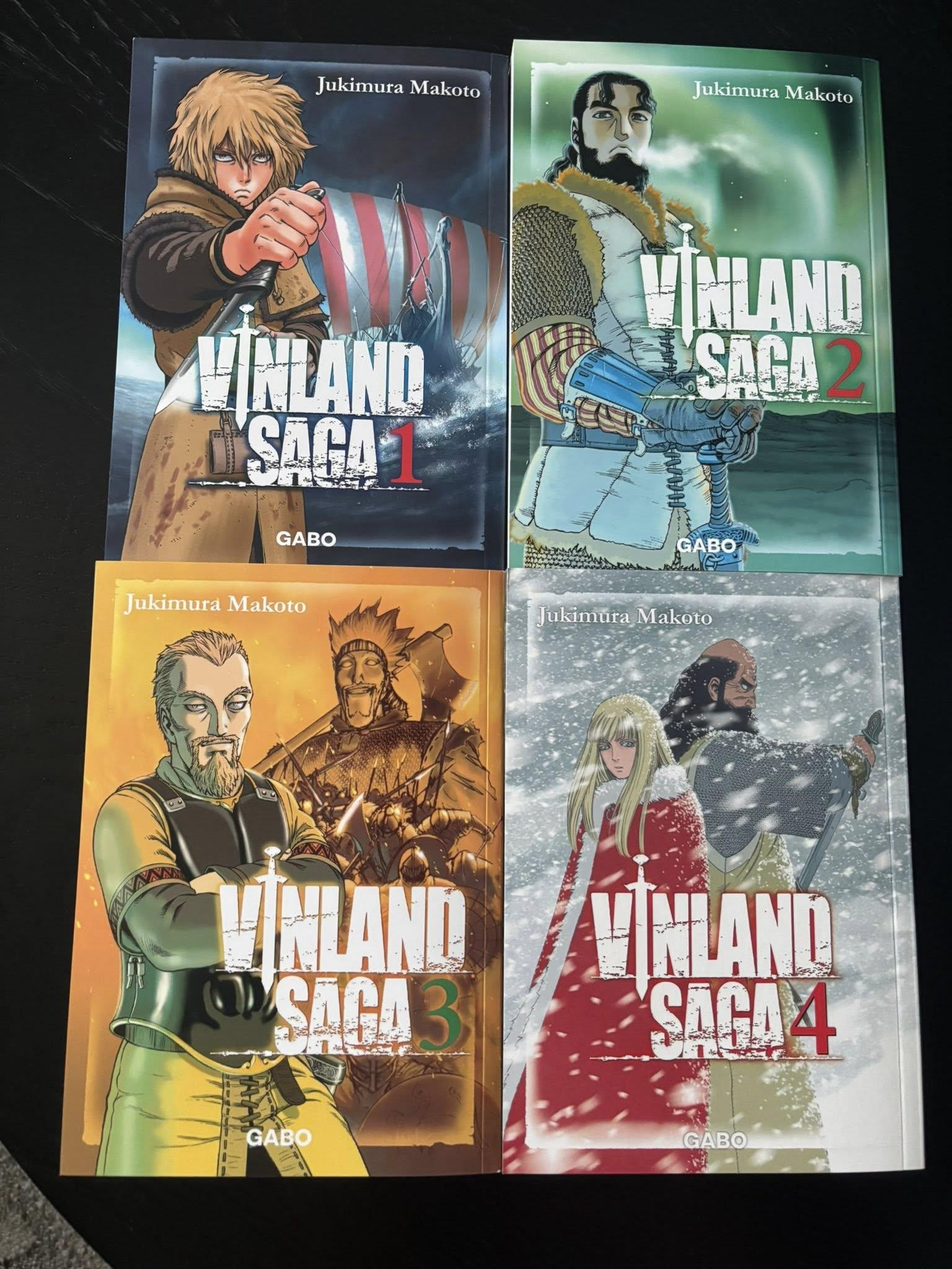comic: (61, 562, 507, 1181), (503, 569, 922, 1173), (107, 40, 510, 567), (511, 40, 901, 574)
